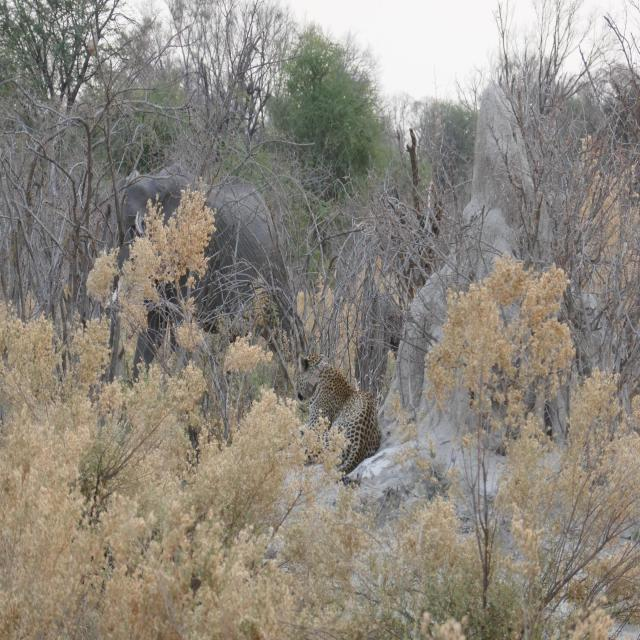Leopard: (296, 357, 383, 484)
